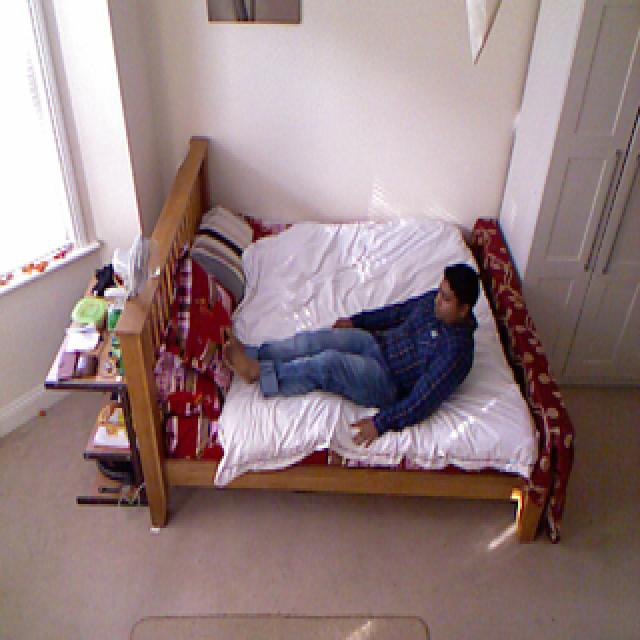lying: (213, 260, 482, 416)
